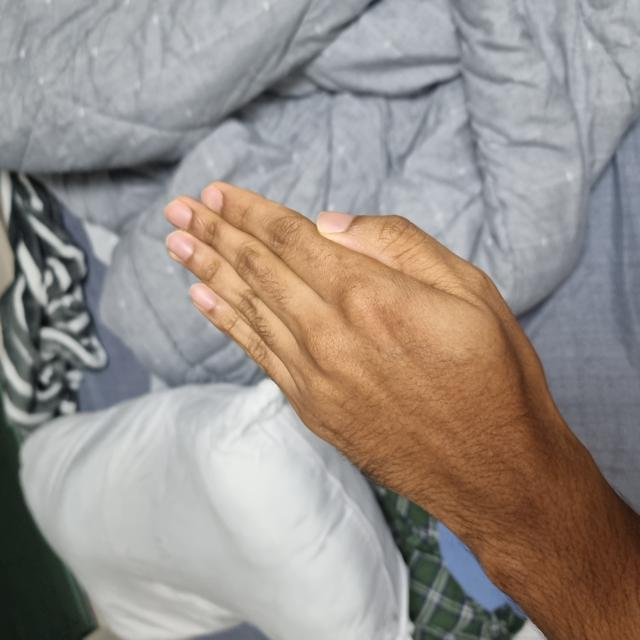Paper: (105, 164, 452, 550)
